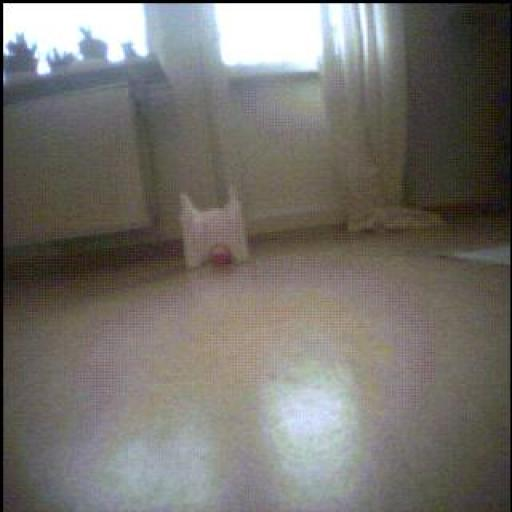Basket: (209, 245, 234, 270)
